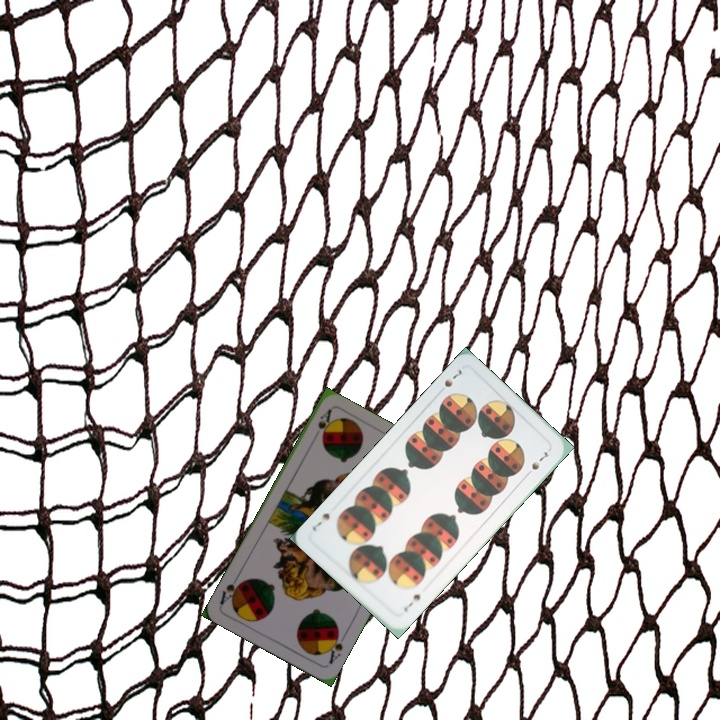S7: (440, 365, 464, 390), (400, 590, 423, 614)
SA: (322, 626, 345, 667), (314, 405, 334, 441)
